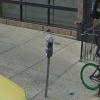Bicycle: (78, 58, 98, 94)
